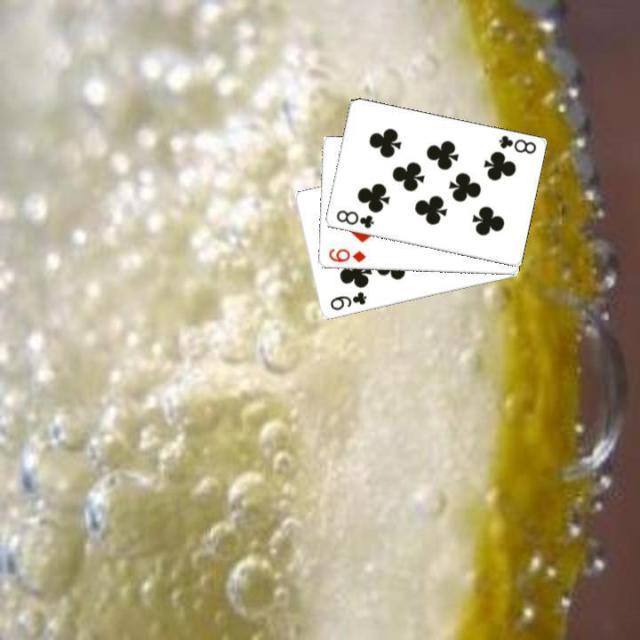6D: (325, 245, 367, 264)
8C: (494, 132, 538, 156), (332, 206, 375, 230)
9C: (326, 288, 369, 313)
